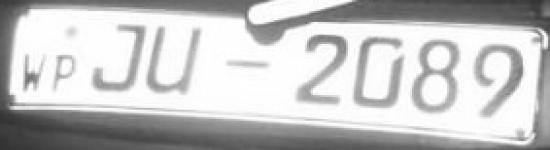-: (219, 50, 275, 76)
2: (293, 28, 350, 110), (351, 32, 407, 112)
8: (408, 34, 469, 118)
9: (470, 35, 530, 122)
J: (87, 17, 146, 98)
P: (48, 51, 83, 99)
U: (146, 18, 205, 99)
W: (19, 50, 49, 96)
